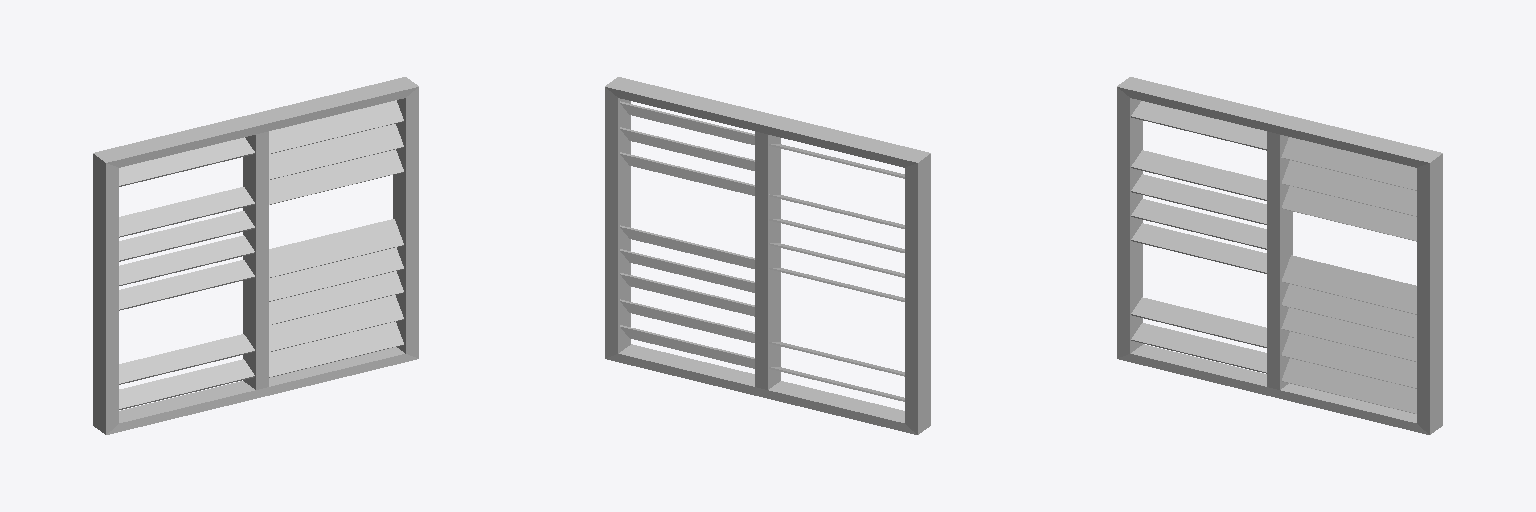
Rendered from window.obj.
3 views of the same model, side by side, from view 1: azimuth 30°, elevation 25°; view 2: azimuth 150°, elevation 25°; view 3: azimuth 330°, elevation 25° (orthographic).
Parts seen in each view (by area): view 1: window.001_Cube.006; view 2: window.001_Cube.006; view 3: window.001_Cube.006.
Part boxes in pixels (x1,y1,x2,y2): window.001_Cube.006: (93, 77, 418, 434); window.001_Cube.006: (605, 77, 930, 434); window.001_Cube.006: (1117, 77, 1442, 434).
Size of the model in its own units: 3.39 by 2.81 by 0.2548.